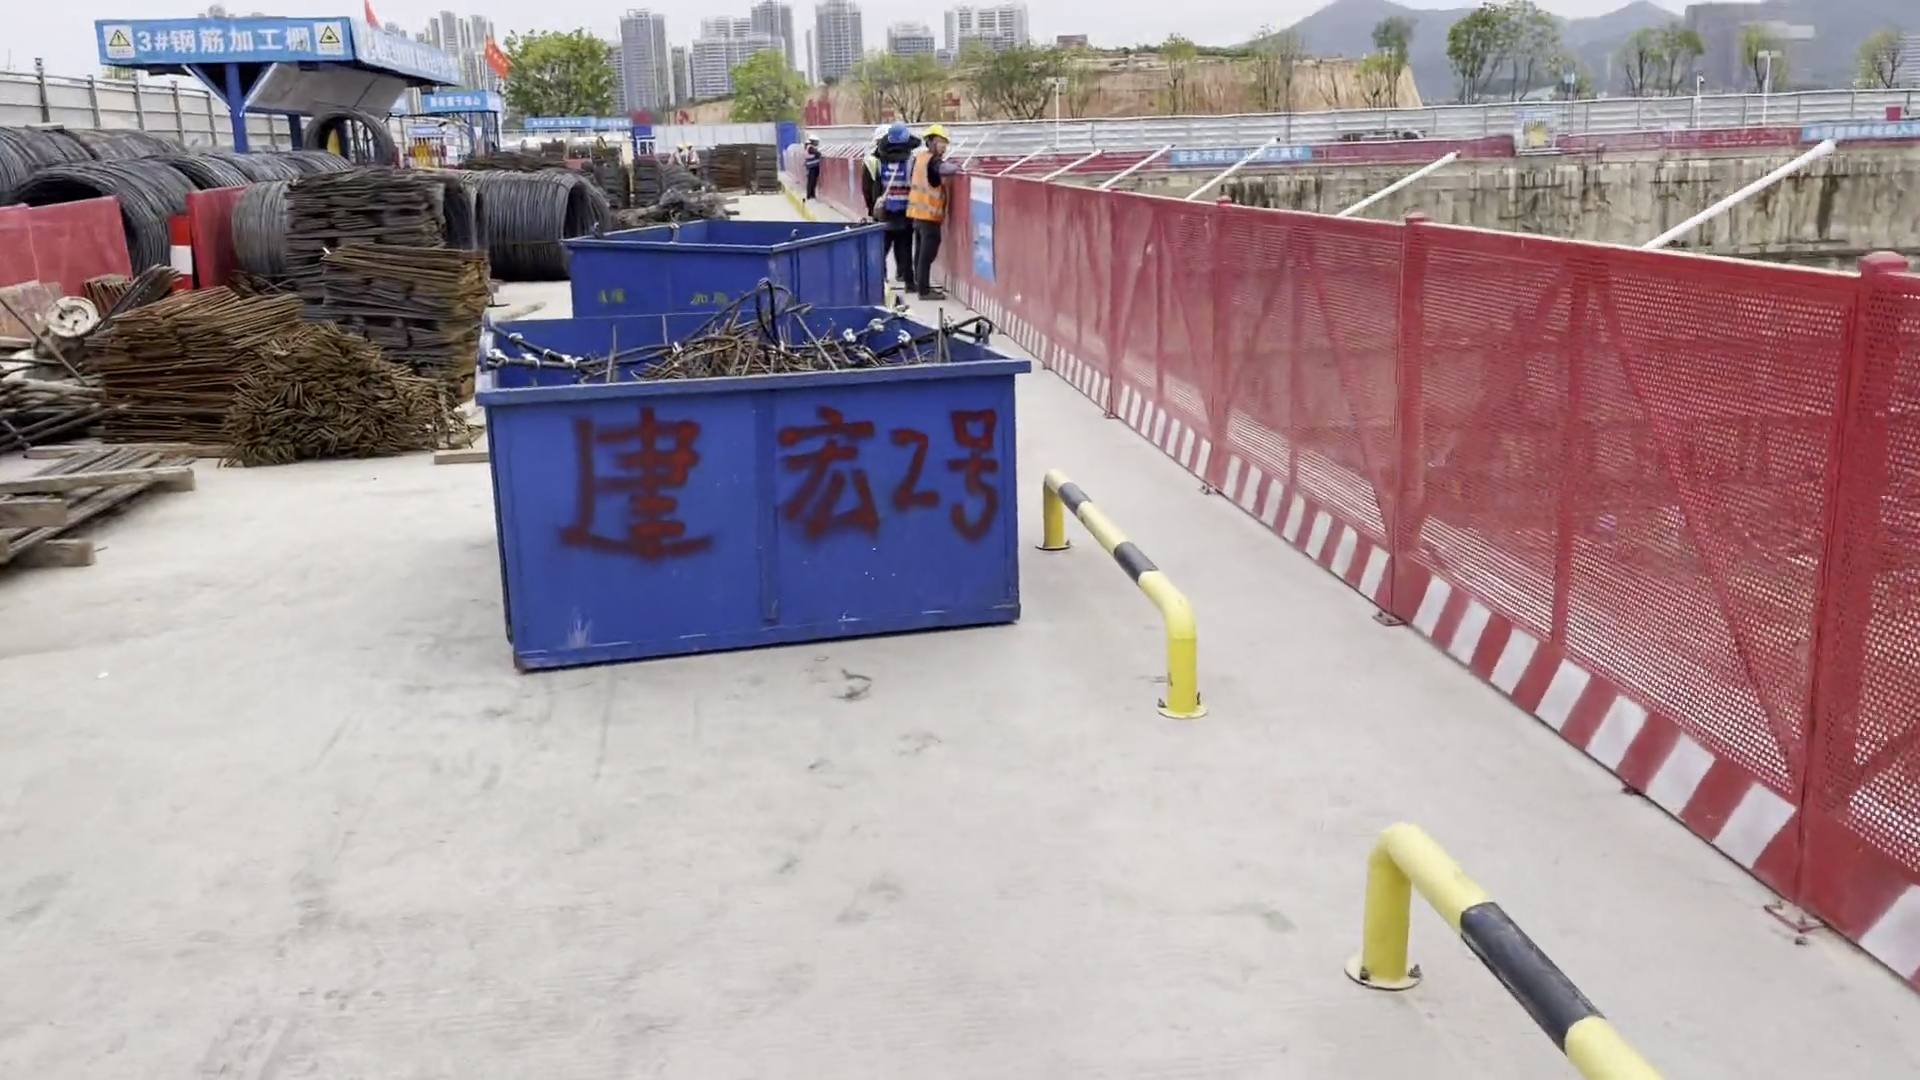fence: (877, 157, 1920, 997), (947, 125, 1920, 169)
helmet: (888, 126, 910, 144), (924, 127, 950, 141), (871, 127, 888, 139), (808, 132, 820, 143), (684, 142, 692, 150), (676, 144, 682, 152)
hopper: (471, 283, 1038, 686), (555, 198, 903, 323)
person: (909, 126, 959, 295), (872, 125, 916, 258), (802, 133, 825, 198), (683, 142, 701, 169), (667, 143, 683, 167)
vest: (909, 155, 940, 219), (881, 148, 907, 211), (805, 143, 816, 169), (685, 149, 697, 167), (667, 153, 680, 166)
